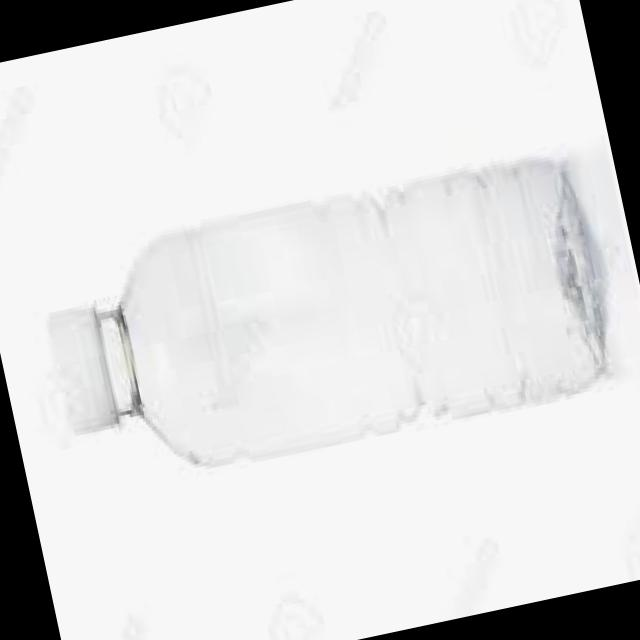bottle: (49, 162, 604, 465)
